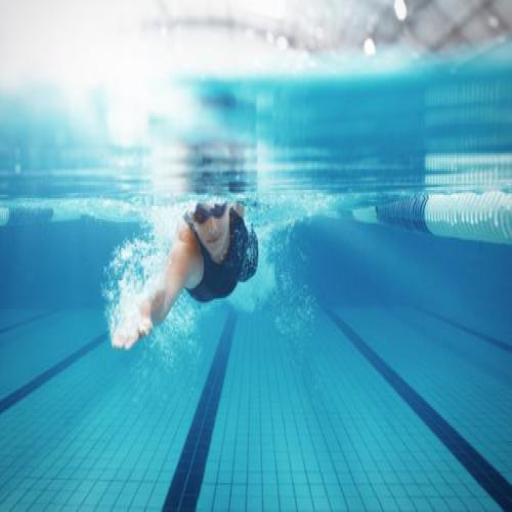swimming: (109, 196, 260, 352)
